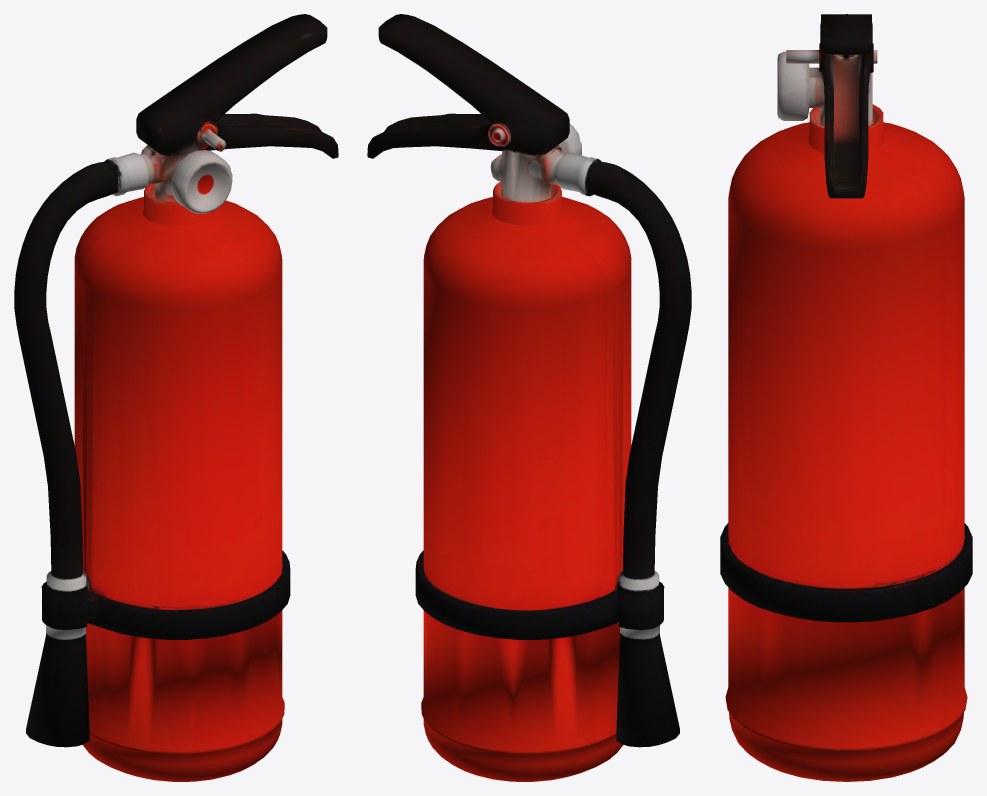
File: fire_extinguisher_wall_mounted_bc0dddd4_v1.glb
3 renders of one model, left to right at view 1: azimuth 30°, elevation 25°; view 2: azimuth 150°, elevation 25°; view 3: azimuth 270°, elevation 25°, orthographic. The views are drawn at different scales.
Visible parts, largest first — view 1: material; view 2: material; view 3: material.
Part boxes in pixels (left/top/right/bottom): material: left=14, top=14, right=338, bottom=781; material: left=367, top=14, right=691, bottom=781; material: left=720, top=14, right=972, bottom=781.
Bounding box in the file's own units: 0.902 × 1.9 × 0.5538.
Materials: 1 (1 with a texture image).
